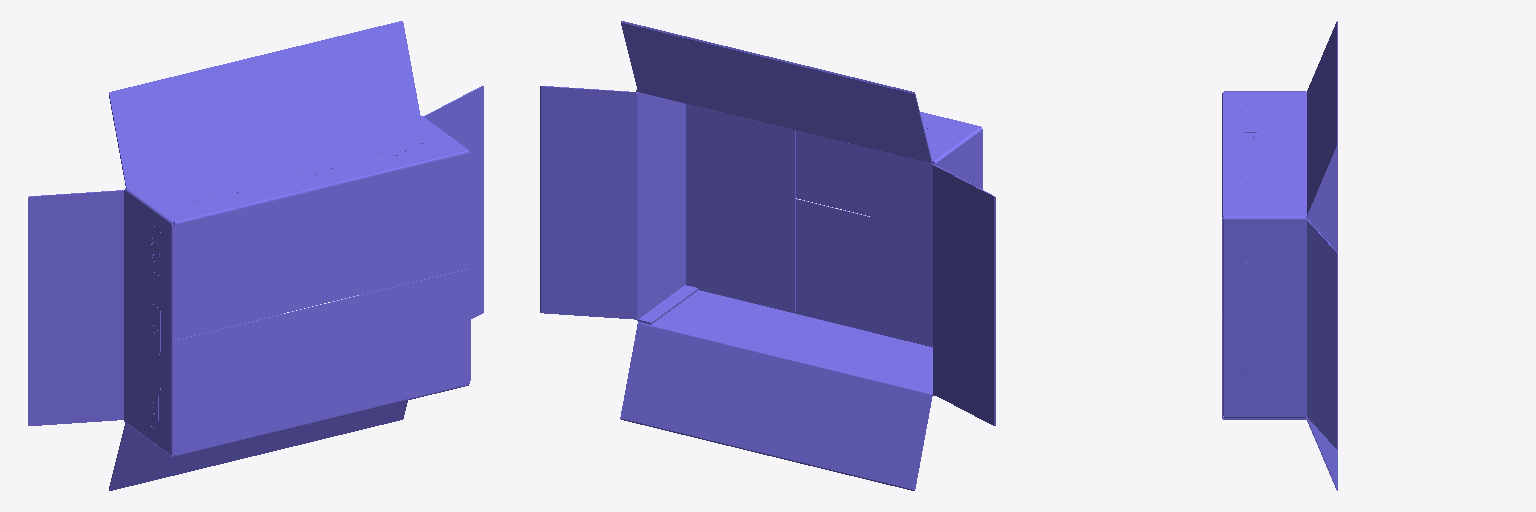
robot.urdf — blob000:
<?xml version="1.0"?>
<robot name="blob000">
  <link name="cardboard_box">
    <contact>
      <lateral_friction value="100.5"/>
      <rolling_friction value="100.0"/>
      <inertia_scaling value="3.0"/>
      <contact_cfm value="0.0"/>
      <contact_erp value="1.0"/>
    </contact>
    <inertial>

      <origin rpy="2.8059790000e-02 6.3761090100e+00 -2.1813690000e-02" xyz="0 0 0"/>
      <mass value="1"/>
      <inertia ixx="5.4452046169e+01" ixy="4.3699994440e-02" ixz="1.5889617656e-01" iyy="6.3542713578e+01" iyz="-1.5943531740e-02" izz="6.7035213304e+01"/>
    </inertial>
    <visual>
      <origin rpy="0 0 0" xyz="0 0 0"/>
      <geometry>
        <mesh filename="cardboard_box_45.dae" scale="0.0325 0.0125 0.0325"/>
      </geometry>
      <material name="blockmat">
        
        <color rgba="0.54 0.51 1.00 1"/>
      </material>
    </visual>
    <collision>
      <origin rpy="0 0 0" xyz="0 0 0"/>
      <geometry>
        <mesh filename="cardboard_box_45.dae" scale="0.0325 0.0125 0.0325"/>
      </geometry>
    </collision>
  </link>
</robot>

--- Facts derived from the render (not from the file) ---
3 views of the same robot in one strip: view 1: azimuth 30°, elevation 25°; view 2: azimuth 150°, elevation 25°; view 3: azimuth 270°, elevation 25° (orthographic).
Robot: blob000 — 1 links, 0 joints (none); root link cardboard_box; default pose: every joint at zero.
Visible links, largest first — view 1: cardboard_box; view 2: cardboard_box; view 3: cardboard_box.
Link boxes in pixels (x1,y1,x2,y2): cardboard_box: (28,21,483,490); cardboard_box: (540,21,995,490); cardboard_box: (1222,21,1337,490).
Size in the robot's own frame: 0.7801 by 0.1969 by 0.6521 metres.
Meshes: 1 distinct files referenced, 1 mesh visuals loaded (1 Collada DAE).
